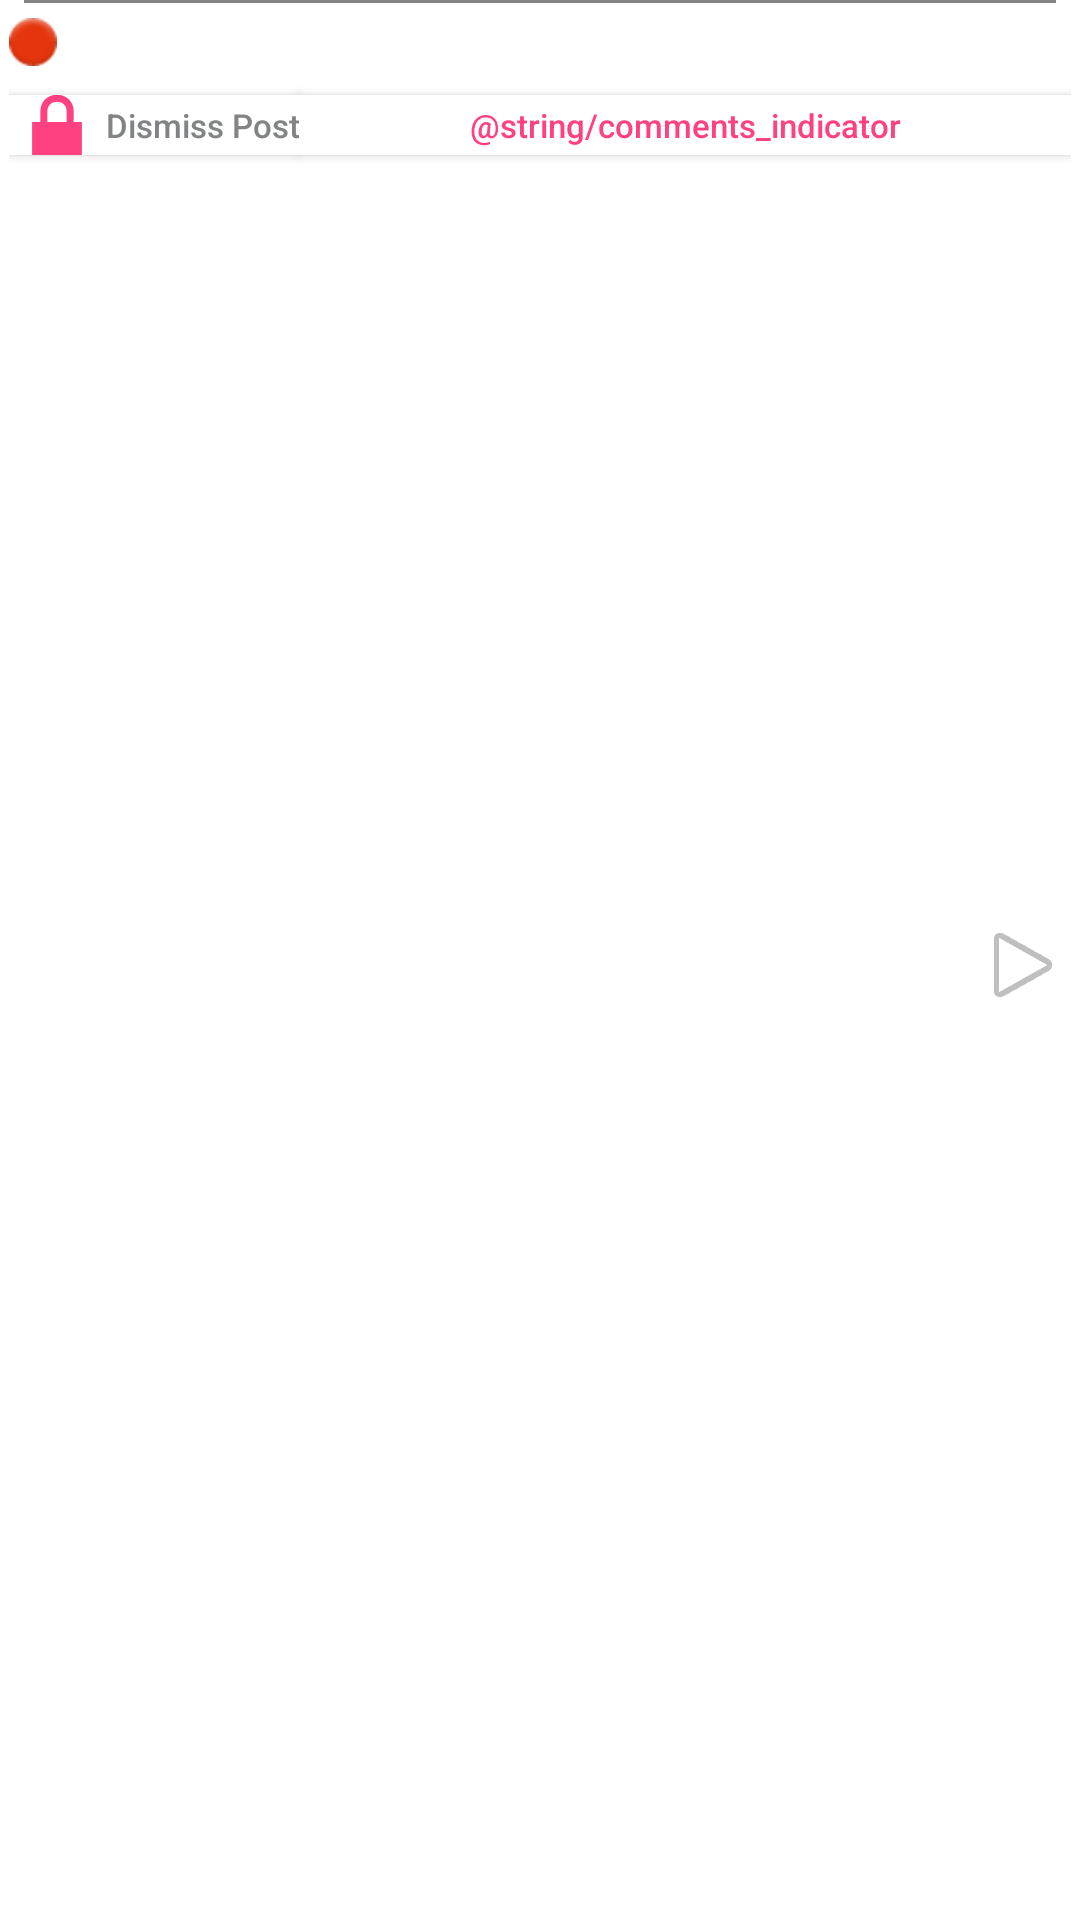

Icon click points for this 1080w x 1920h phone screenshot, format [x,y]:
play: [1023,965]
